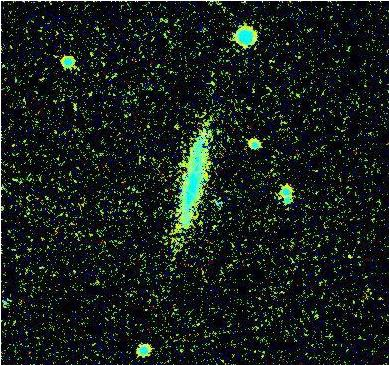star: (167, 215, 197, 245)
